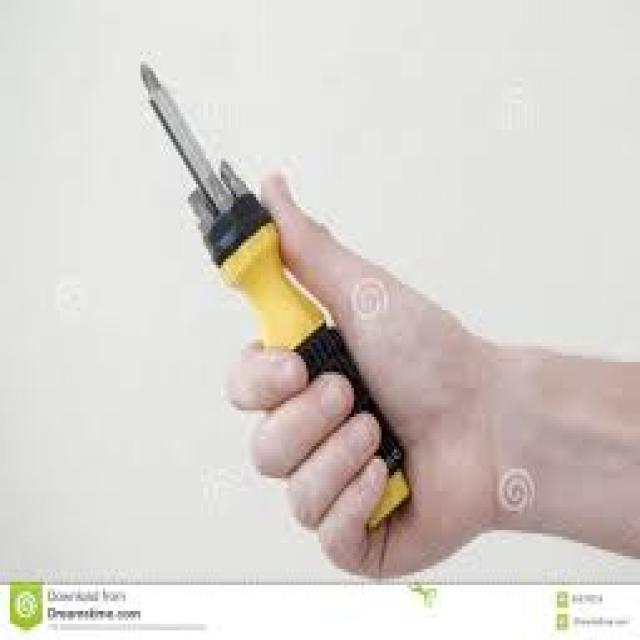screwdriver: (126, 44, 414, 538)
